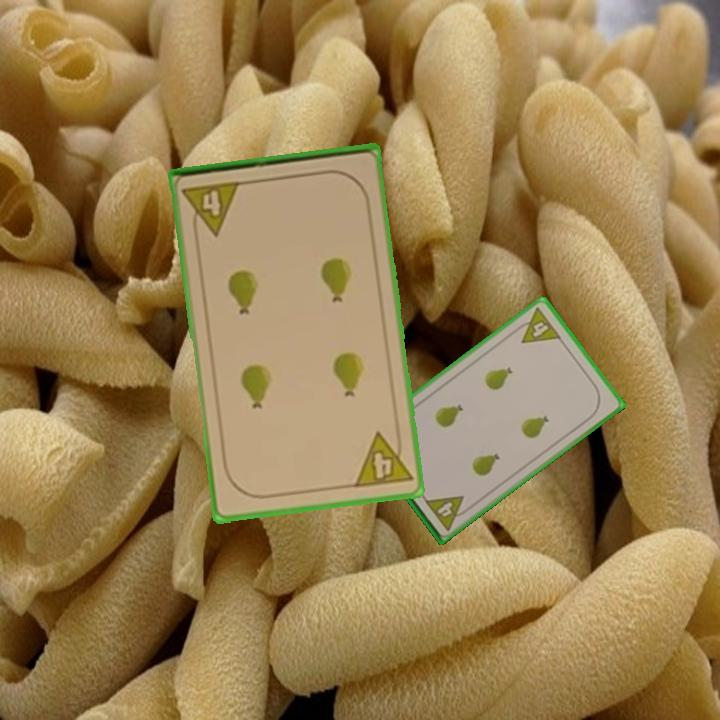4p: (350, 426, 415, 491), (179, 177, 244, 240), (510, 303, 564, 346), (421, 491, 474, 533)
